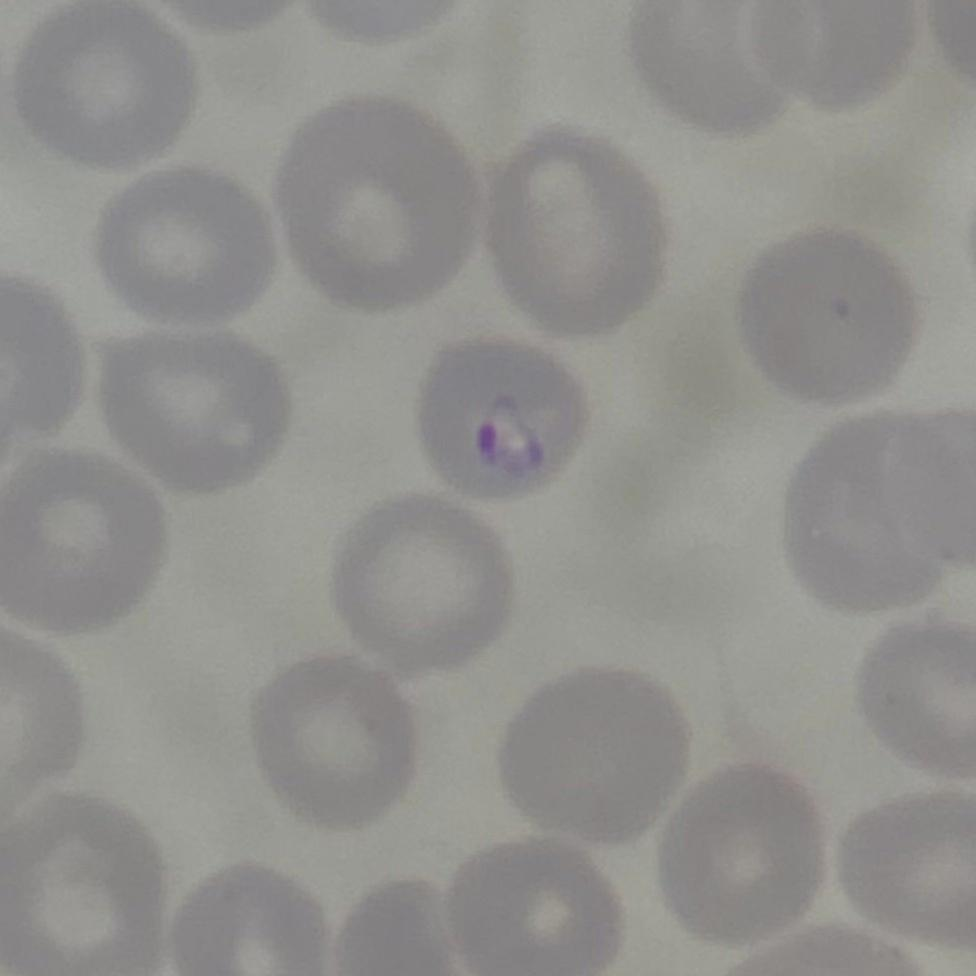Infected: (415, 336, 588, 500)
Uninfected: (268, 101, 481, 303), (488, 121, 666, 339), (495, 668, 694, 851), (780, 416, 951, 608), (97, 326, 289, 495), (332, 491, 509, 673), (743, 223, 916, 406), (248, 651, 416, 831), (18, 6, 201, 171), (0, 443, 162, 628), (100, 158, 279, 318), (10, 793, 164, 976), (662, 761, 814, 942), (630, 0, 818, 139), (452, 836, 624, 976), (835, 796, 976, 952), (752, 0, 923, 123), (862, 608, 976, 770), (177, 863, 322, 976)
